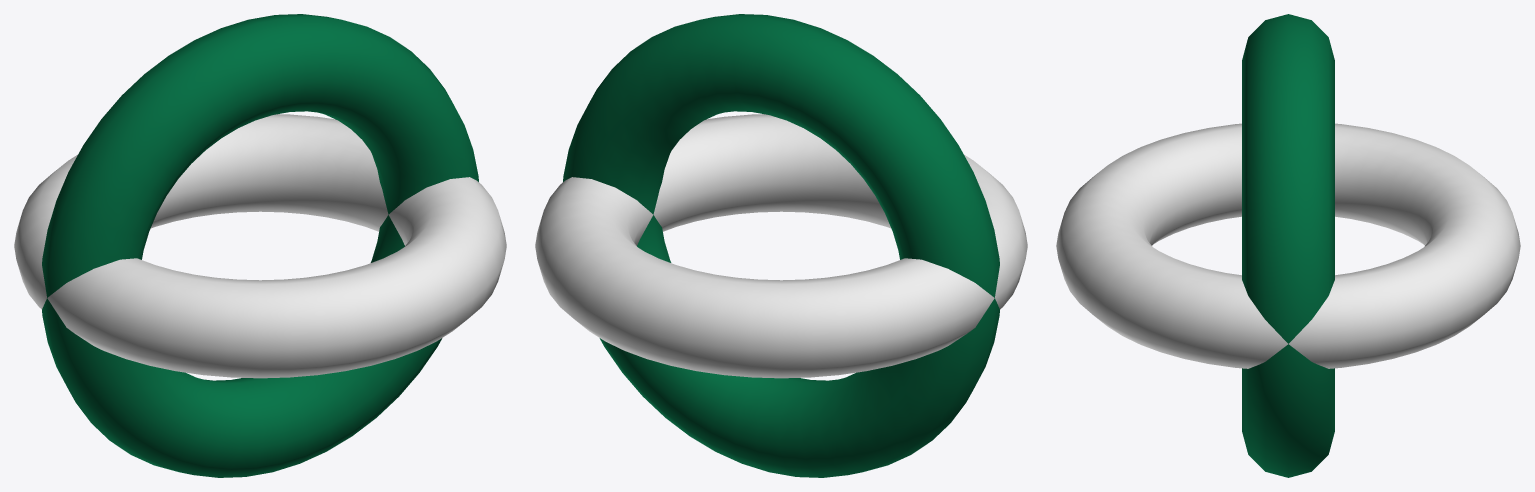
The model's file is pensando.fbx.
The picture shows the model from 3 angles, left to right: view 1: azimuth 30°, elevation 25°; view 2: azimuth 150°, elevation 25°; view 3: azimuth 270°, elevation 25°; orthographic projection. The views are drawn at different scales.
Visible parts, largest first — view 1: Torus_002, Torus; view 2: Torus_002, Torus; view 3: Torus, Torus_002.
Boxes of the visible parts, x1=… form: Torus_002: x1=42, y1=14, x2=478, y2=477; Torus: x1=14, y1=114, x2=506, y2=378; Torus_002: x1=563, y1=14, x2=999, y2=477; Torus: x1=535, y1=114, x2=1027, y2=378; Torus: x1=1056, y1=123, x2=1520, y2=368; Torus_002: x1=1242, y1=14, x2=1334, y2=477.
Bounding box in the file's own units: 2.5 × 2.5 × 2.5.
